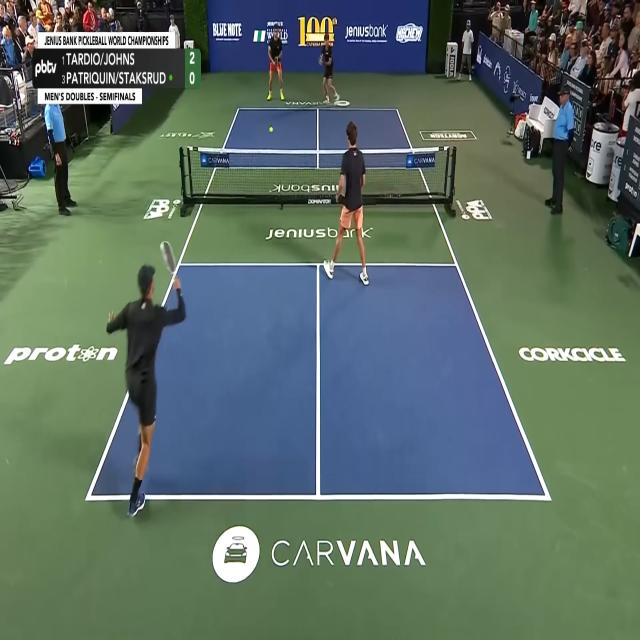ball: (268, 125, 274, 133)
